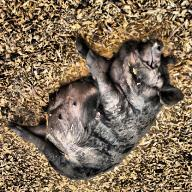boar: (9, 35, 185, 181)
